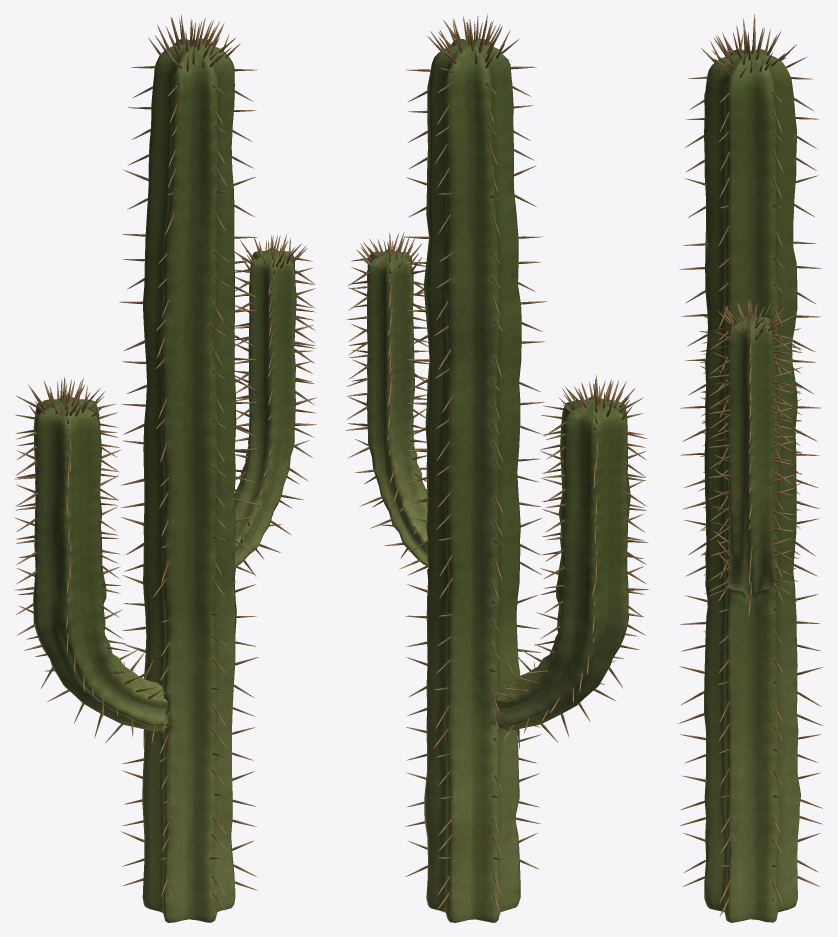
The model's file is cactus.glb.
3 views of the same model, side by side, from view 1: azimuth 30°, elevation 25°; view 2: azimuth 150°, elevation 25°; view 3: azimuth 270°, elevation 25° (orthographic).
Visible parts, largest first — view 1: cactus.1_1; view 2: cactus.1_1; view 3: cactus.1_1.
Part boxes in pixels (<box>): cactus.1_1: <box>14,14,316,922</box>; cactus.1_1: <box>345,14,649,922</box>; cactus.1_1: <box>678,14,822,922</box>.
Size of the model in its own units: 0.0244 by 0.0687 by 0.0102.
Materials: 1 (1 with a texture image).
